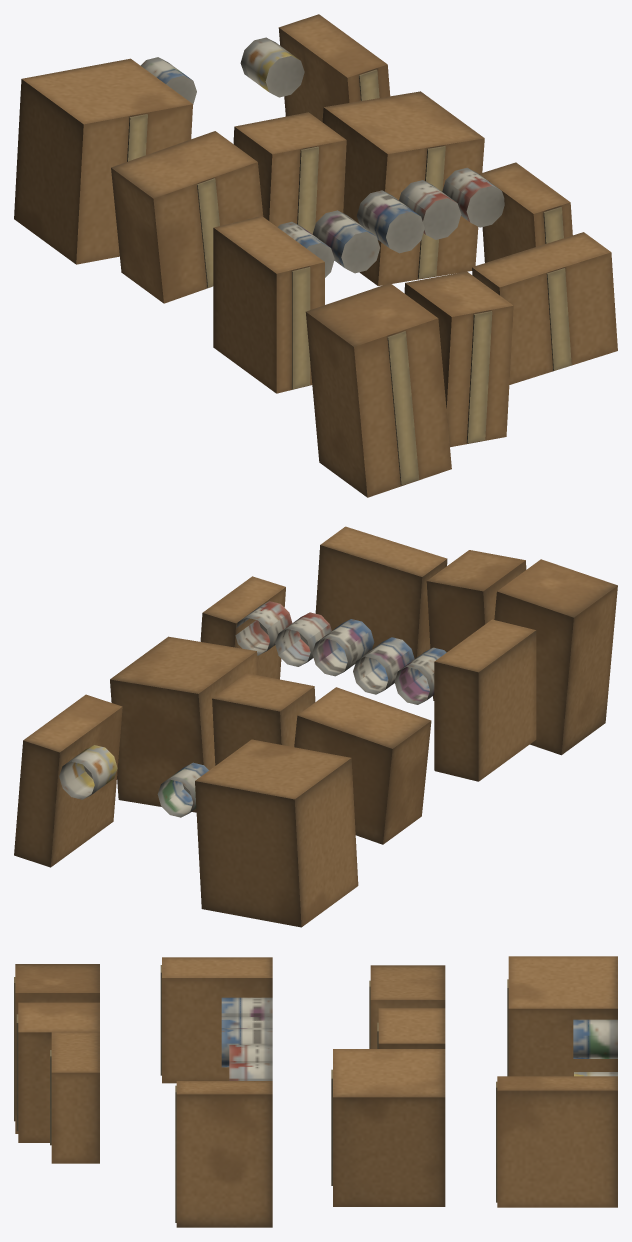
The model's file is goods_storage_3.obj.
3 renders of one model, top to bottom at view 1: azimuth 30°, elevation 25°; view 2: azimuth 150°, elevation 25°; view 3: azimuth 270°, elevation 25°, orthographic. The views are drawn at different scales.
Size of the model in its own units: 0.8971 by 0.4532 by 1.68.
Materials: 1 (1 with a texture image).
